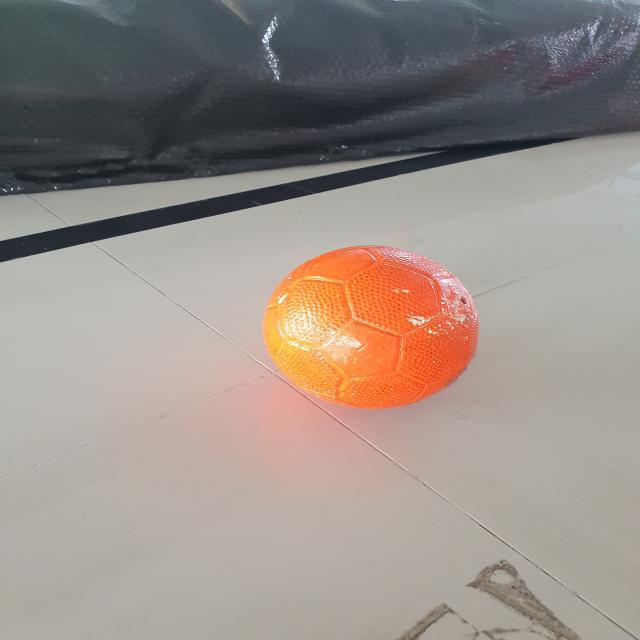bola: (244, 235, 506, 415)
